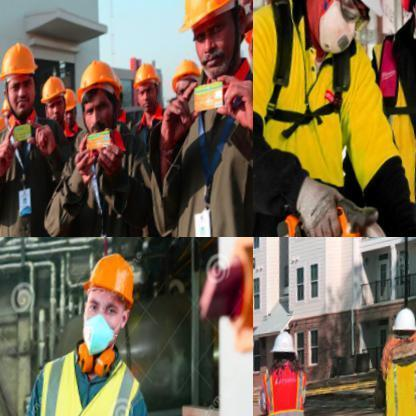vest: (157, 64, 252, 236), (54, 132, 187, 236), (355, 18, 415, 236), (7, 338, 169, 415), (0, 113, 94, 236), (256, 360, 321, 415), (376, 338, 415, 415)
